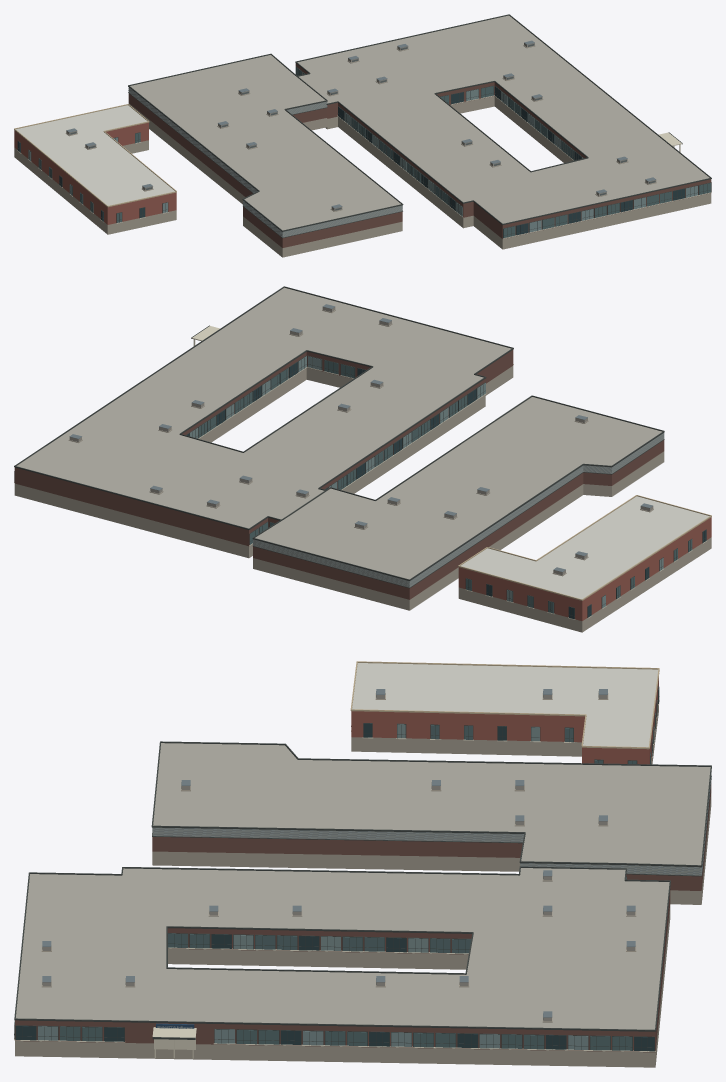
Rendered from bramlett-elementary.glb.
The picture shows the model from 3 angles, top to bottom: view 1: azimuth 30°, elevation 25°; view 2: azimuth 150°, elevation 25°; view 3: azimuth 270°, elevation 25°; orthographic projection. The views are drawn at different scales.
Parts seen in each view (by area): view 1: 317684186 | Roof, 317684186 | Facades, 1337596599 | Roof, 317684186 | Shell and foundation, 1337596599 | Shell and foundation, 317684187 | Shell and foundation, 1337596599 | Facades; view 2: 317684186 | Roof, 317684186 | Facades, 317684186 | Shell and foundation, 1337596599 | Roof, 1337596599 | Shell and foundation, 317684187 | Shell and foundation, 1337596599 | Facades; view 3: 317684186 | Roof, 317684186 | Facades, 1337596599 | Roof, 317684186 | Shell and foundation, 1337596599 | Shell and foundation, 317684187 | Shell and foundation, 1337596599 | Facades.
Boxes of the visible parts, x1,y1,x2,y2 form: 317684186 | Roof: (14,15,711,257); 317684186 | Facades: (17,14,711,238); 1337596599 | Roof: (16,105,174,205); 317684186 | Shell and foundation: (128,63,711,247); 1337596599 | Shell and foundation: (14,122,176,224); 317684187 | Shell and foundation: (128,87,402,237); 1337596599 | Facades: (14,104,176,207); 317684186 | Roof: (14,287,711,632); 317684186 | Facades: (14,286,706,619); 317684186 | Shell and foundation: (14,350,664,599); 1337596599 | Roof: (460,496,709,599); 1337596599 | Shell and foundation: (458,517,711,620); 317684187 | Shell and foundation: (253,433,664,587); 1337596599 | Facades: (458,495,711,600); 317684186 | Roof: (15,689,711,1067); 317684186 | Facades: (14,686,711,1058); 1337596599 | Roof: (352,663,658,747); 317684186 | Shell and foundation: (15,784,711,1052); 1337596599 | Shell and foundation: (351,677,658,764); 317684187 | Shell and foundation: (152,827,701,875); 1337596599 | Facades: (350,661,659,749).
Bounding box in the file's own units: 124 × 7.86 × 100.
